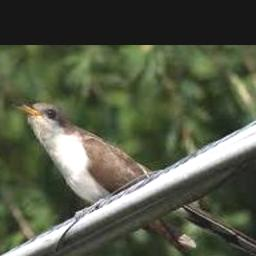Cuckoo: (13, 103, 256, 256)
